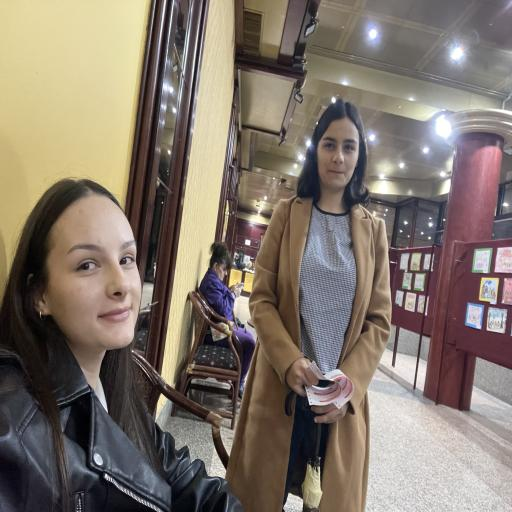marija: (42, 195, 142, 351)
